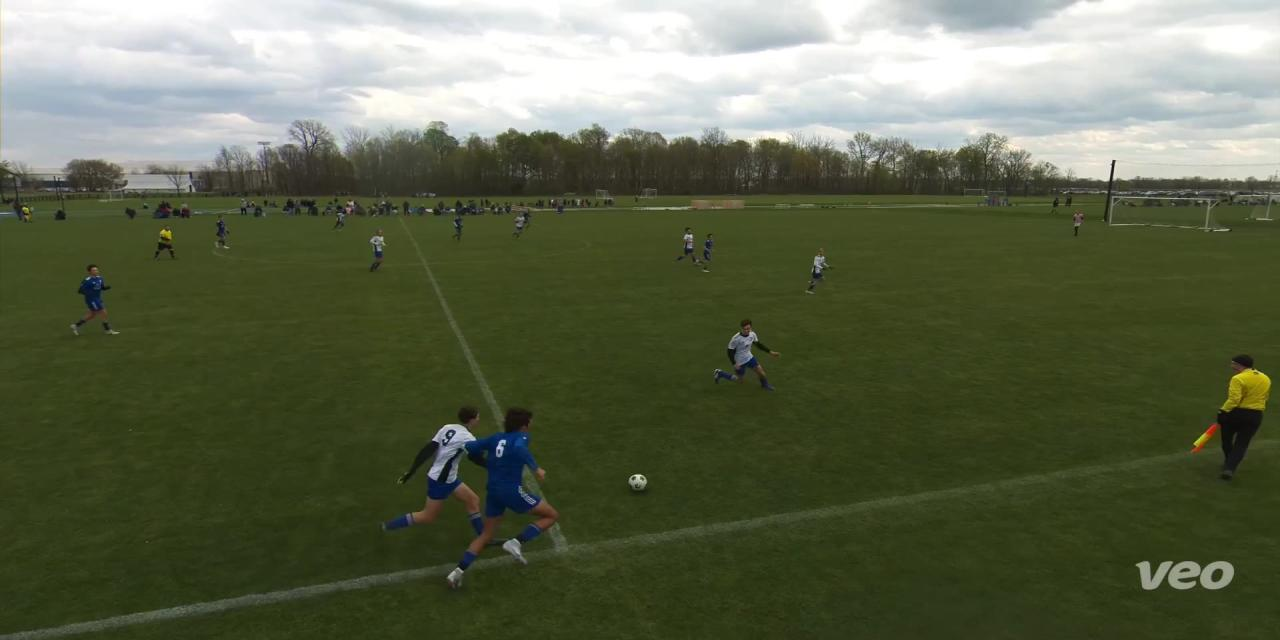goal: (1102, 188, 1232, 240)
sports ball: (622, 467, 656, 494)
